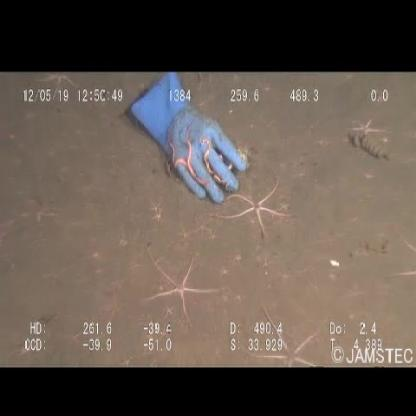Rác: (127, 74, 252, 218)
